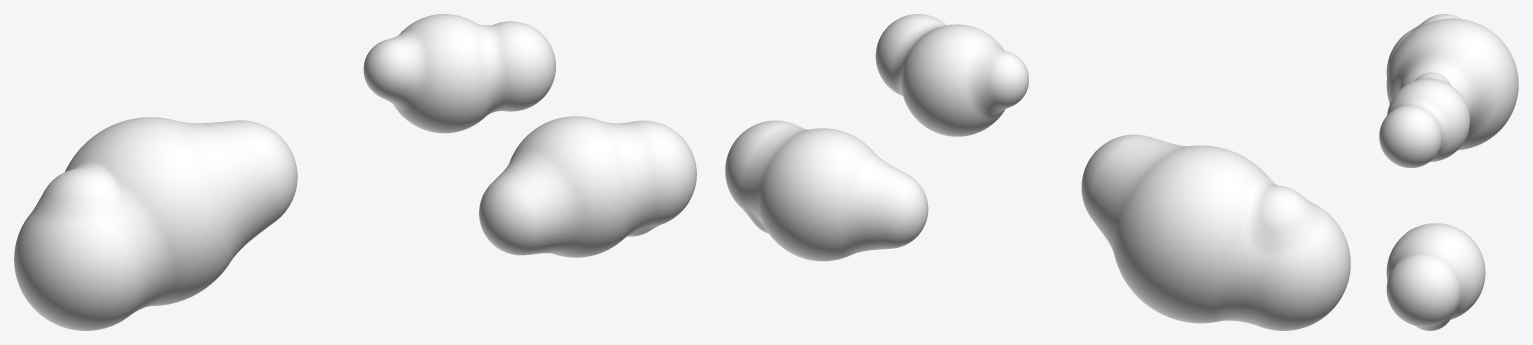
3 renders of one model, left to right at view 1: azimuth 30°, elevation 25°; view 2: azimuth 150°, elevation 25°; view 3: azimuth 270°, elevation 25°, orthographic. The views are drawn at different scales.
Visible parts, largest first — view 1: clouds; view 2: clouds; view 3: clouds.
Boxes of the visible parts, x1,y1,x2,y2 form: clouds: [14, 14, 696, 330]; clouds: [725, 14, 1350, 330]; clouds: [1379, 14, 1518, 330].
Size of the model in its own units: 306 by 120 by 80.39.
Materials: 1 (1 with a texture image).
